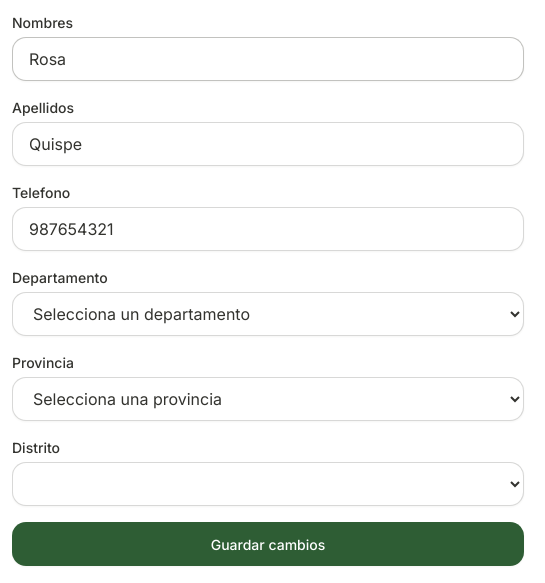
Test: ProfileForm › al cambiar de provincia limpia el distrito
Select "Cangallo" in the dropdown labelled "Provincia" at point(268, 399), box [12, 377, 524, 421]
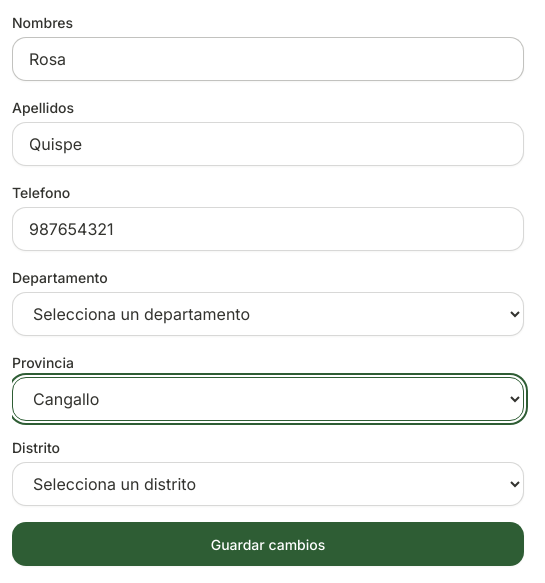
Check: the dropdown labelled "Distrito" shows "Selecciona un distrito", box [12, 462, 524, 506]
